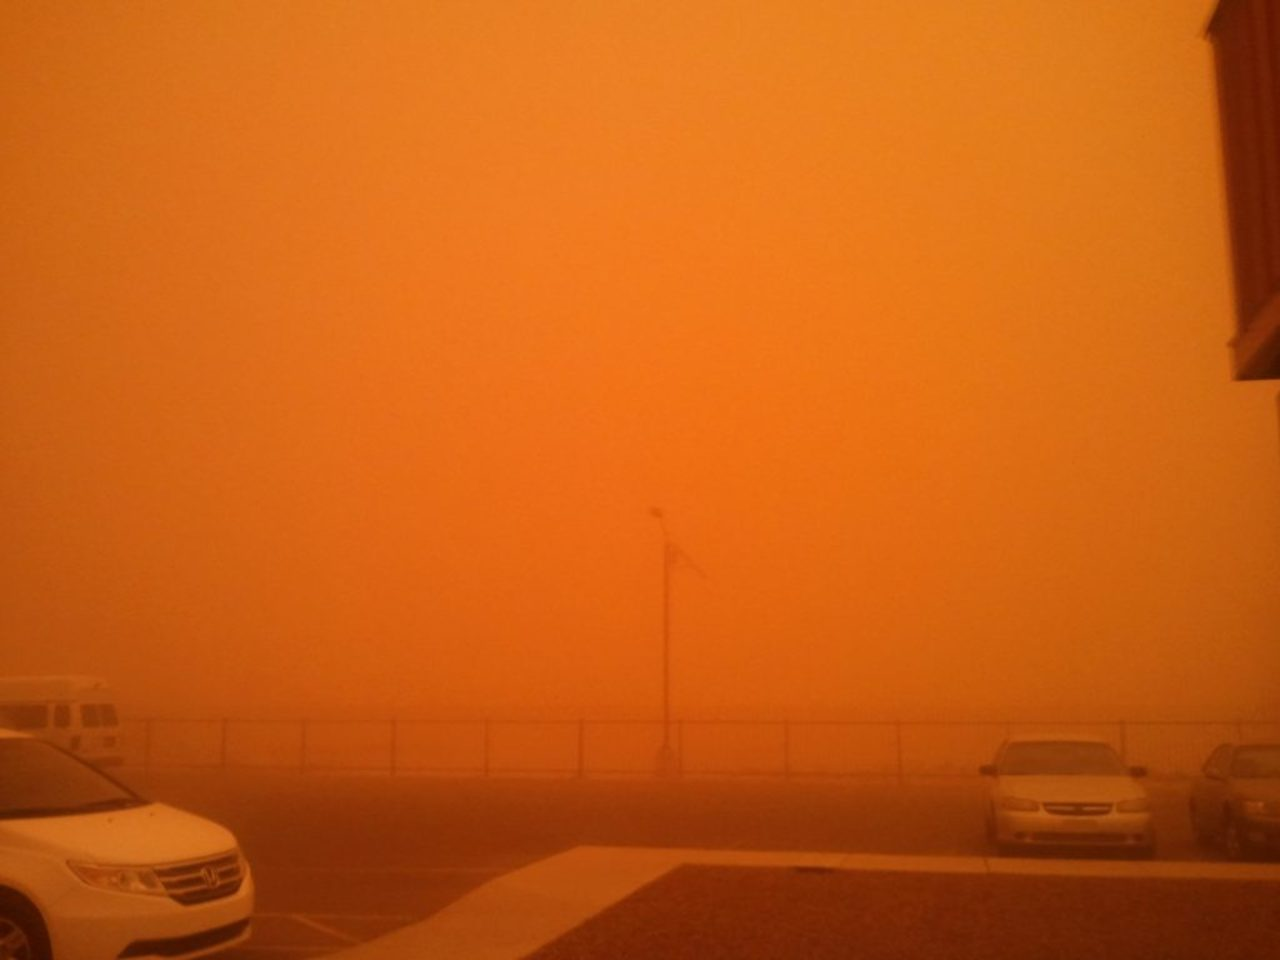car: (5, 720, 256, 958), (979, 735, 1157, 857), (3, 674, 130, 764), (1185, 739, 1279, 859)
